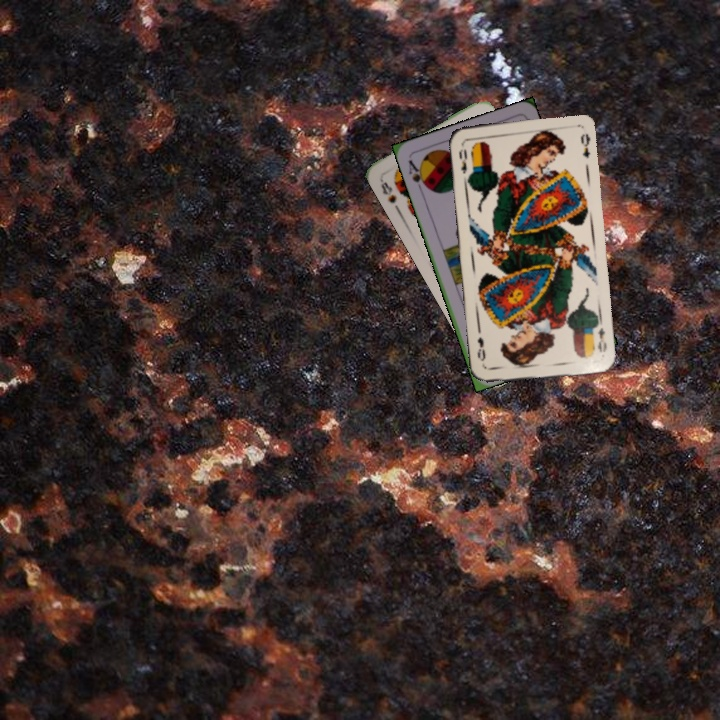EO: (593, 324, 609, 355), (455, 145, 470, 176)
S8: (375, 172, 399, 206)
SA: (404, 155, 431, 194)
